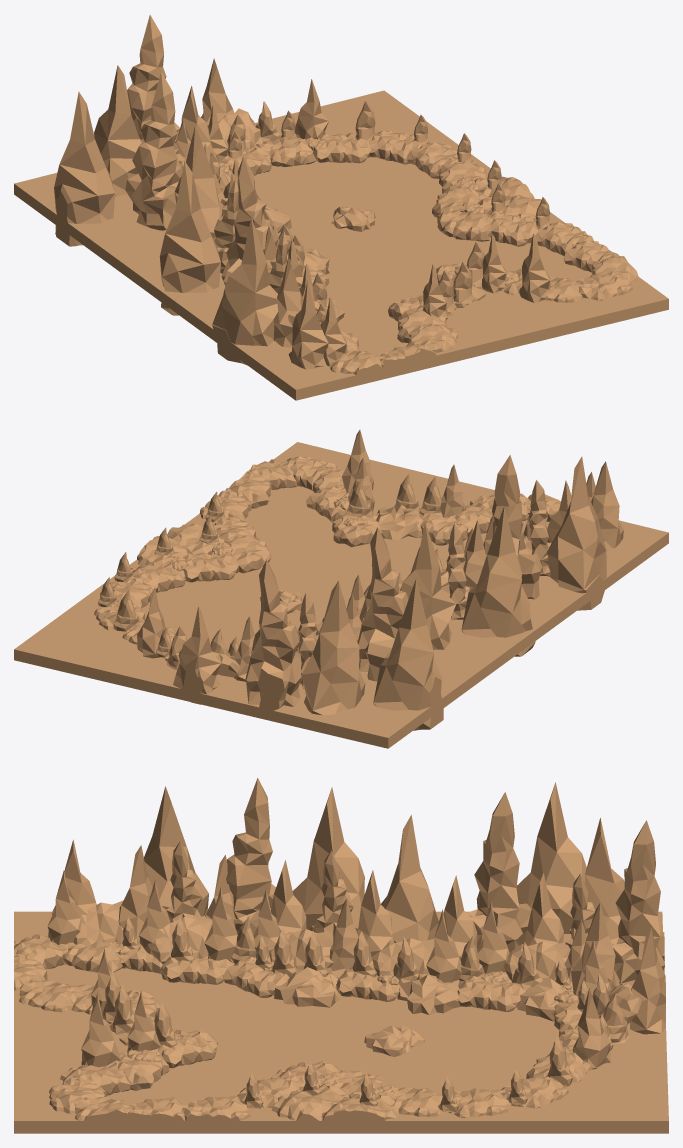
Rendered from карта3 .fbx.
The picture shows the model from 3 angles, top to bottom: view 1: azimuth 30°, elevation 25°; view 2: azimuth 150°, elevation 25°; view 3: azimuth 270°, elevation 25°; orthographic projection. The views are drawn at different scales.
Parts seen in each view (by area): view 1: BézierCurve.003, Plane.002, Cube.100, высокий камень.063, высокий камень.062, высокий камень.057, высокий камень.059, Cube.101, Cube.099, высокий камень.068, высокий камень.058, высокий камень.067 (+34 smaller); view 2: BézierCurve.003, Plane.002, высокий камень.063, Cube.101, высокий камень.062, высокий камень.059, высокий камень.057, Cube.100, высокий камень.058, Cube.099, высокий камень.054, высокий камень.068 (+32 smaller); view 3: Plane.002, BézierCurve.003, Cube.101, Cube.100, высокий камень.063, Cube.099, высокий камень.062, высокий камень.058, высокий камень.057, высокий камень.054, высокий камень.059, низкий камень.114 (+73 smaller).
Part boxes in pixels (x1,y1,x2,y2): BézierCurve.003: (14, 90, 668, 400); Plane.002: (254, 157, 592, 355); Cube.100: (125, 72, 182, 230); высокий камень.063: (54, 91, 115, 246); высокий камень.062: (159, 160, 220, 315); высокий камень.057: (212, 217, 278, 365); высокий камень.059: (94, 65, 141, 196); Cube.101: (127, 14, 179, 141); Cube.099: (221, 157, 278, 285); высокий камень.068: (288, 280, 328, 369); высокий камень.058: (174, 126, 223, 240); высокий камень.067: (273, 256, 303, 347); BézierCurve.003: (14, 442, 668, 748); Plane.002: (141, 486, 549, 651); высокий камень.063: (373, 579, 443, 730); Cube.101: (245, 560, 301, 712); высокий камень.062: (461, 506, 535, 656); высокий камень.059: (301, 580, 365, 715); высокий камень.057: (547, 456, 606, 610); Cube.100: (357, 527, 408, 681); высокий камень.058: (400, 522, 456, 649); Cube.099: (486, 455, 542, 599); высокий камень.054: (173, 606, 220, 704); высокий камень.068: (591, 461, 623, 550); Plane.002: (46, 964, 559, 1104); BézierCurve.003: (14, 911, 668, 1133); Cube.101: (610, 820, 664, 985); Cube.100: (466, 792, 531, 952); высокий камень.063: (516, 782, 586, 938); Cube.099: (226, 778, 275, 934); высокий камень.062: (292, 787, 364, 930); высокий камень.058: (381, 814, 438, 942); высокий камень.057: (144, 786, 208, 916); высокий камень.054: (629, 928, 665, 1034); высокий камень.059: (569, 817, 624, 939); низкий камень.114: (322, 1092, 398, 1129).
Bounding box in the file's own units: 17353 × 7358 × 22937.
